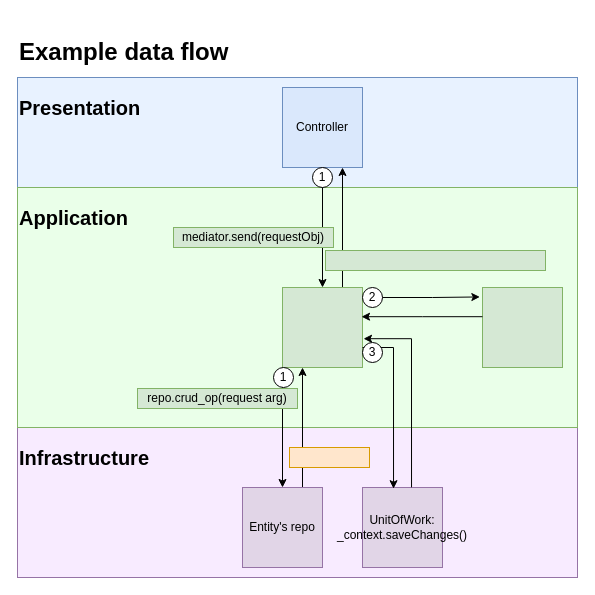
Some shapes in this 595 by 595 pixel diagram are drawn without their labels. The box of each missing label's shape, as (x1, y1, x2, y2) in pixels:
domain entity: (288, 446, 370, 468)
Mediator Handler: (282, 286, 362, 368)
new Response("msg", status, objDTO): (324, 250, 546, 270)
Service (ex: PwHash): (482, 286, 562, 368)
